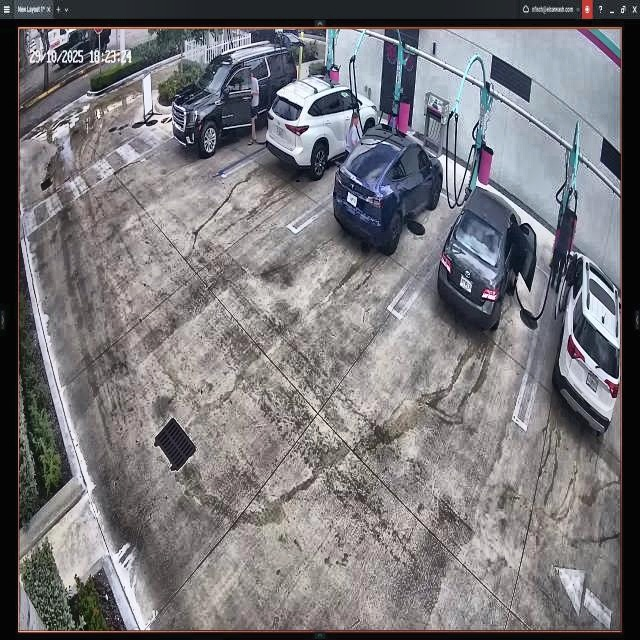Car: (336, 125, 443, 251), (439, 187, 535, 327), (267, 76, 377, 172)
